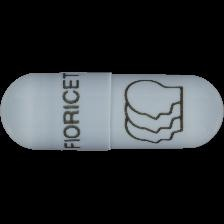0591-2640: (0, 0, 224, 224)
